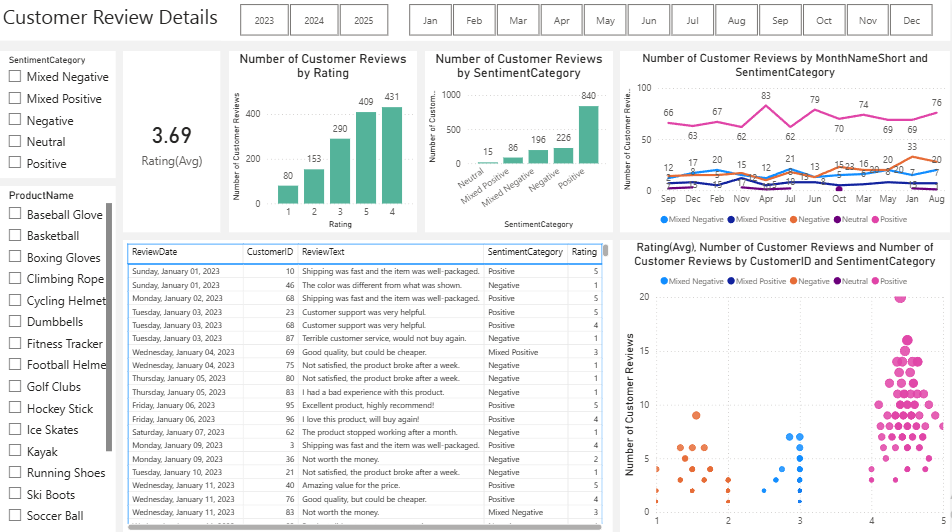

This screenshot's page, from the dashboard's own definition file:
{"tool":"powerbi","page":{"name":"Customer Review Details","canvas":[1280,720],"ordinal":3},"visuals":[{"type":"textbox","box":[0,0,1280.2,56.2],"z":0},{"type":"slicer","fields":{"Values":["dim_products.ProductName"]},"box":[0,251.4,157.1,468.6],"z":1000},{"type":"card","fields":{"Values":["_Calculation.Rating(Avg)"]},"box":[167.1,70,131.4,244.3],"z":2000},{"type":"slicer","fields":{"Values":["Calendar.Year"]},"box":[298.6,0,248.6,55.7],"z":3000},{"type":"slicer","fields":{"Values":["Calendar.MonthNameShort"]},"box":[525.7,0,754.3,55.7],"z":4000},{"type":"clusteredColumnChart","fields":{"Y":["_Calculation.Number of Customer Reviews"],"Category":["fact_customer_reviews_with_sentiment.Rating"]},"box":[310,70,252.9,244.3],"z":5000},{"type":"clusteredColumnChart","fields":{"Y":["_Calculation.Number of Customer Reviews"],"Category":["fact_customer_reviews_with_sentiment.SentimentCategory"]},"box":[572.9,70,252.9,244.3],"z":6000},{"type":"lineChart","fields":{"Y":["_Calculation.Number of Customer Reviews"],"Series":["fact_customer_reviews_with_sentiment.SentimentCategory"],"Category":["Calendar.MonthNameShort"]},"box":[835.7,70,444.3,244.3],"z":7000},{"type":"tableEx","fields":{"Values":["fact_customer_reviews_with_sentiment.ReviewDate","fact_customer_reviews_with_sentiment.CustomerID","fact_customer_reviews_with_sentiment.ReviewText","fact_customer_reviews_with_sentiment.SentimentCategory","fact_customer_reviews_with_sentiment.Rating"]},"box":[167.1,324.3,658.6,395.7],"z":8000},{"type":"scatterChart","fields":{"X":["_Calculation.Rating(Avg)"],"Category":["dim_customers.CustomerID"],"Series":["fact_customer_reviews_with_sentiment.SentimentCategory"],"Size":["_Calculation.Number of Customer Reviews"],"Y":["_Calculation.Number of Customer Reviews"]},"box":[836,324,444,396],"z":9000},{"type":"slicer","fields":{"Values":["fact_customer_reviews_with_sentiment.SentimentCategory"]},"box":[0,70,157.1,171.4],"z":10000}]}

Visuals, with their boxes in screenshot pixels (x1, y1, x2, y2), scaled from the page's 1280x720 canvas onto the 952x532 screenshot:
textbox: box(0, 0, 951, 42)
slicer - dim_products.ProductName: box(0, 186, 117, 531)
card - _Calculation.Rating(Avg): box(124, 52, 222, 232)
slicer - Calendar.Year: box(222, 0, 407, 41)
slicer - Calendar.MonthNameShort: box(391, 0, 951, 41)
clusteredColumnChart - _Calculation.Number of Customer Reviews x fact_customer_reviews_with_sentiment.Rating: box(231, 52, 419, 232)
clusteredColumnChart - _Calculation.Number of Customer Reviews x fact_customer_reviews_with_sentiment.SentimentCategory: box(426, 52, 614, 232)
lineChart - _Calculation.Number of Customer Reviews x fact_customer_reviews_with_sentiment.SentimentCategory: box(622, 52, 951, 232)
tableEx - fact_customer_reviews_with_sentiment.ReviewDate x fact_customer_reviews_with_sentiment.CustomerID: box(124, 240, 614, 531)
scatterChart - _Calculation.Rating(Avg) x dim_customers.CustomerID: box(622, 239, 951, 531)
slicer - fact_customer_reviews_with_sentiment.SentimentCategory: box(0, 52, 117, 178)
